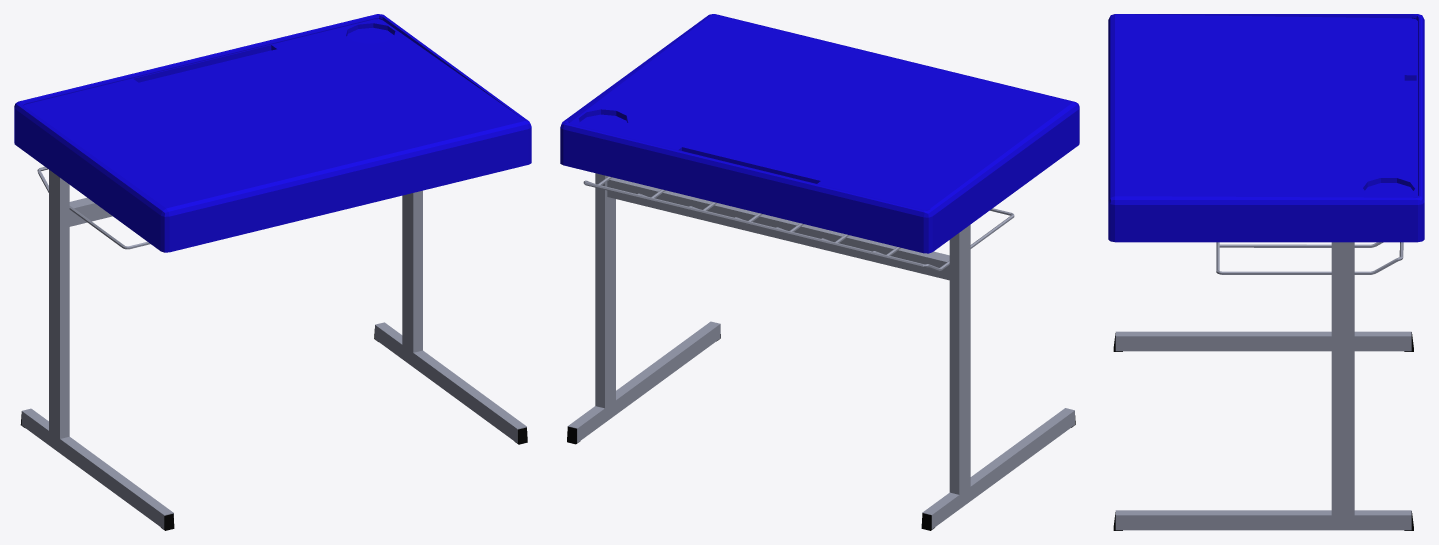
Rendered from cadeiraEscolar.fbx.
The picture shows the model from 3 angles, left to right: view 1: azimuth 30°, elevation 25°; view 2: azimuth 150°, elevation 25°; view 3: azimuth 270°, elevation 25°; orthographic projection. The views are drawn at different scales.
Parts seen in each view (by area): view 1: Plataforma, Pernas; view 2: Plataforma, Pernas; view 3: Plataforma, Pernas.
Part boxes in pixels (x1,y1,x2,y2): Plataforma: (14,14,531,252); Pernas: (21,166,526,529); Plataforma: (560,14,1079,253); Pernas: (567,173,1074,529); Plataforma: (1108,14,1424,242); Pernas: (1115,242,1411,530).
Size of the model in its own units: 200 by 166 by 143.
